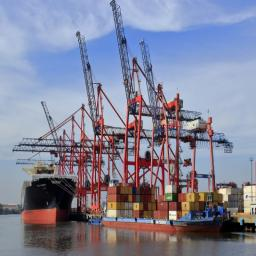tugboat: (102, 173, 238, 245)
